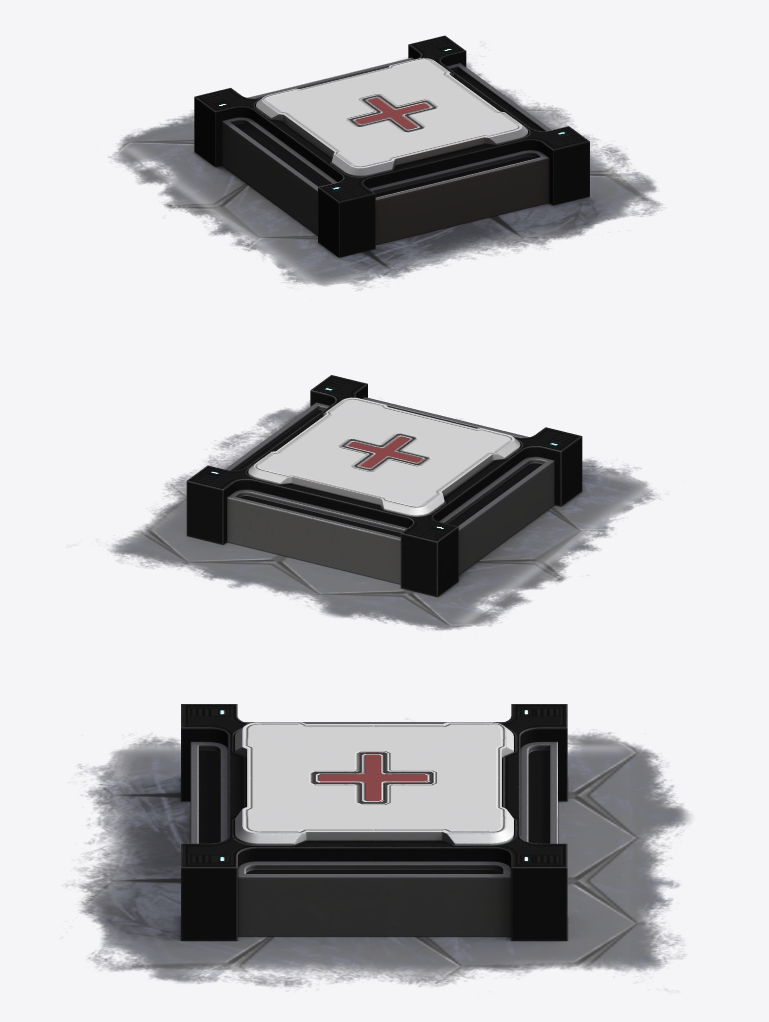
The model's file is medical_capsule_md-019.glb.
3 renders of one model, top to bottom at view 1: azimuth 30°, elevation 25°; view 2: azimuth 150°, elevation 25°; view 3: azimuth 270°, elevation 25°, orthographic. The views are drawn at different scales.
Parts seen in each view (by area): view 1: SM_Item_Sketchfab_M_M1_0, SM_Item_Sketchfab_M_Floor_0; view 2: SM_Item_Sketchfab_M_M1_0, SM_Item_Sketchfab_M_Floor_0; view 3: SM_Item_Sketchfab_M_M1_0, SM_Item_Sketchfab_M_Floor_0.
Boxes of the visible parts, x1,y1,x2,y2 form: SM_Item_Sketchfab_M_M1_0: (194, 35, 589, 257); SM_Item_Sketchfab_M_Floor_0: (108, 45, 664, 290); SM_Item_Sketchfab_M_M1_0: (186, 375, 582, 596); SM_Item_Sketchfab_M_Floor_0: (108, 400, 660, 630); SM_Item_Sketchfab_M_M1_0: (181, 704, 567, 940); SM_Item_Sketchfab_M_Floor_0: (66, 729, 690, 990).
Bounding box in the file's own units: 3.69 × 0.4651 × 3.83.
2 materials, 2 textured.
